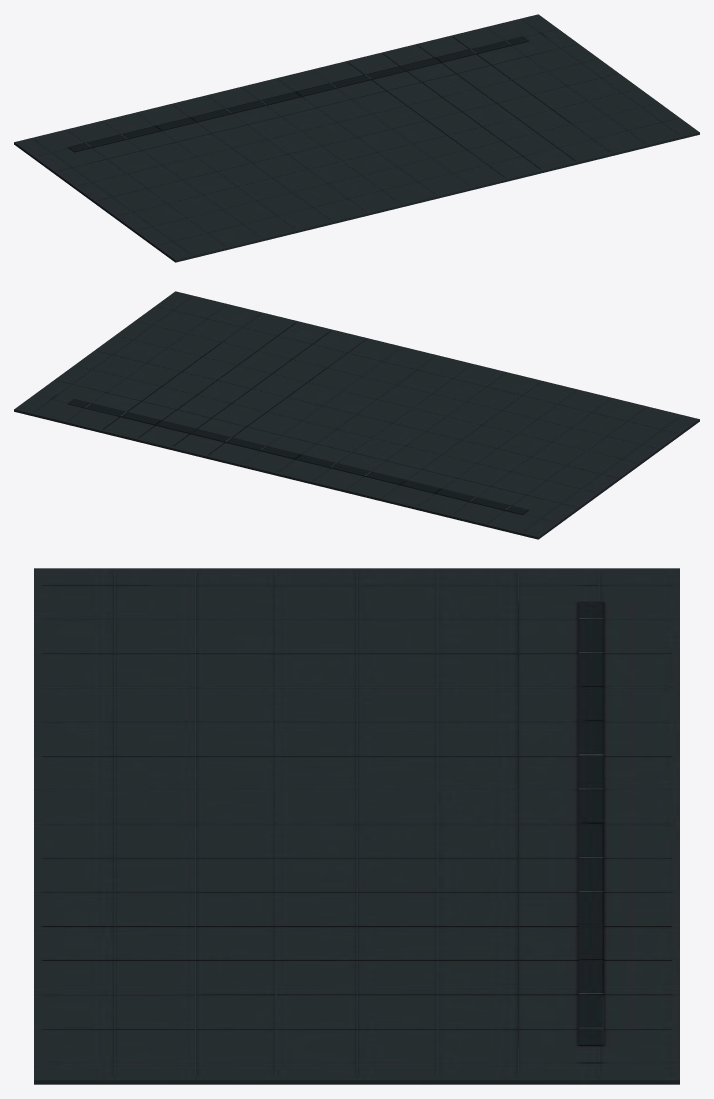
Rendered from console_island_v4.glb.
3 renders of one model, top to bottom at view 1: azimuth 30°, elevation 25°; view 2: azimuth 150°, elevation 25°; view 3: azimuth 270°, elevation 25°, orthographic. The views are drawn at different scales.
Visible parts, largest first — view 1: body; view 2: body; view 3: body.
Part boxes in pixels (x1,y1,x2,y2): body: [14, 14, 699, 262]; body: [14, 291, 699, 539]; body: [34, 568, 679, 1084].
Size of the model in its own units: 15 by 0.0769 by 8.
1 material, 1 textured.
